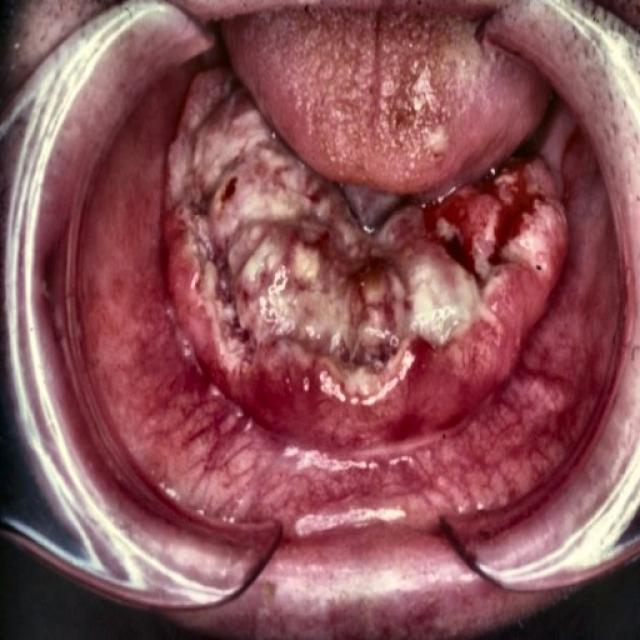cancer-detection: (86, 65, 616, 526)
processing_area: (80, 8, 623, 553)
